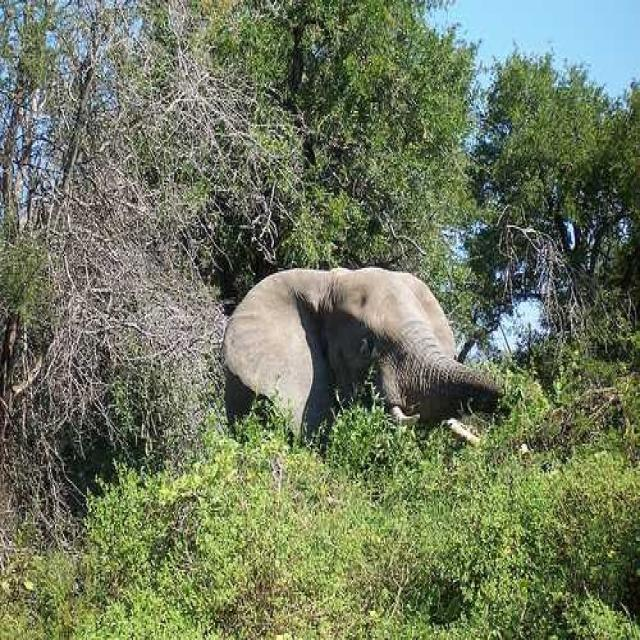Elephant: (220, 264, 503, 450)
